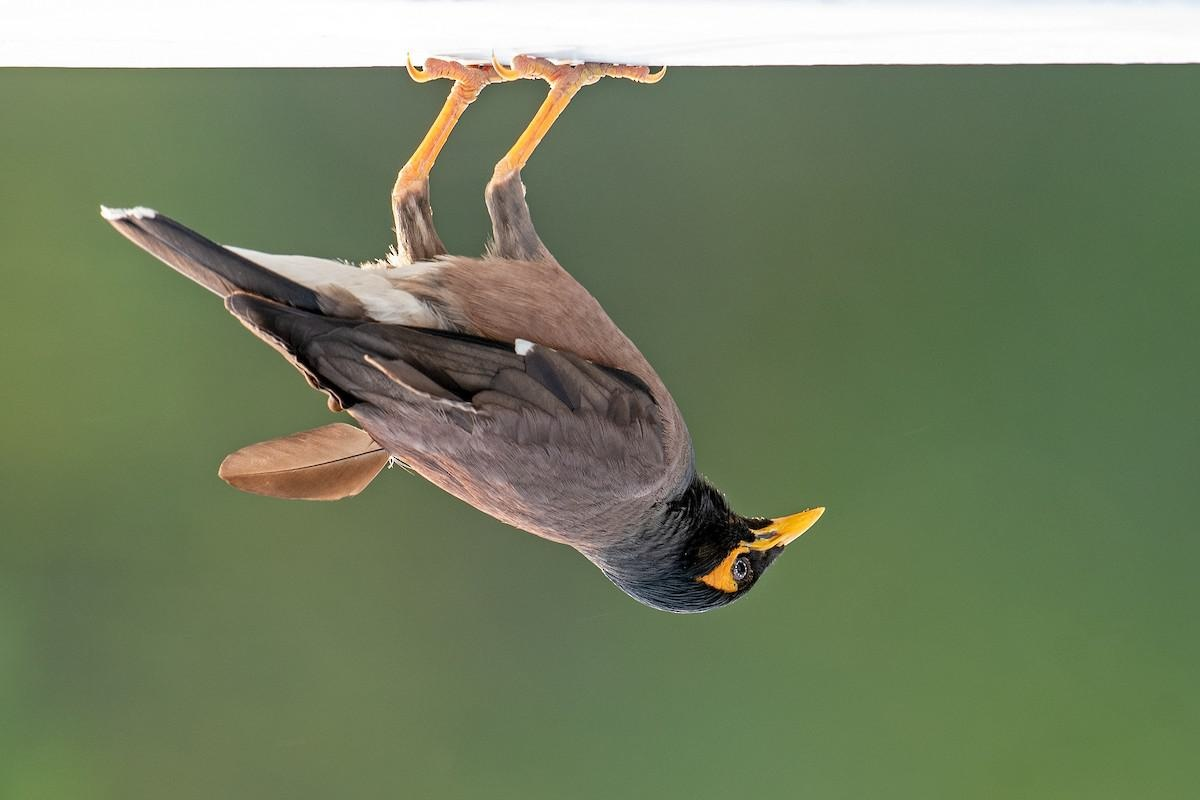myna: (178, 98, 841, 664)
